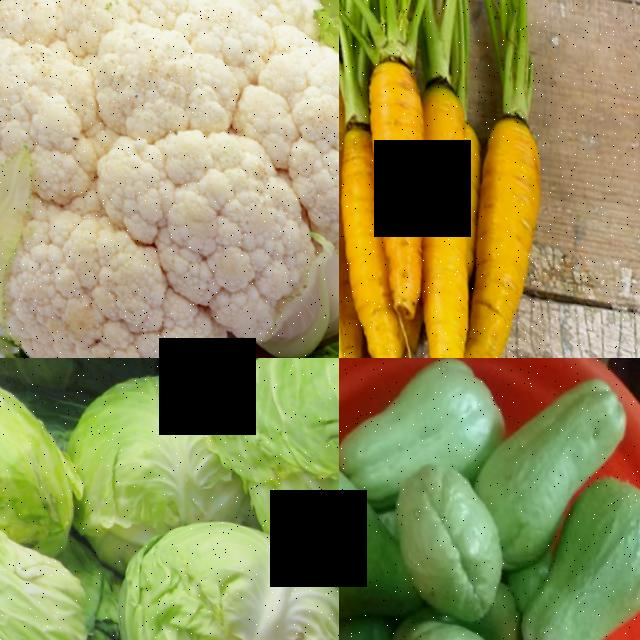cabbage: (95, 505, 339, 640), (42, 358, 223, 534), (216, 358, 339, 527), (0, 360, 76, 550), (0, 516, 52, 640)
carrot: (439, 80, 569, 358), (387, 79, 494, 358), (352, 28, 443, 294), (339, 133, 394, 347)
cauliflower: (0, 0, 339, 358)
chayote: (430, 358, 604, 504), (510, 465, 640, 640), (339, 358, 483, 471), (339, 454, 385, 616)
